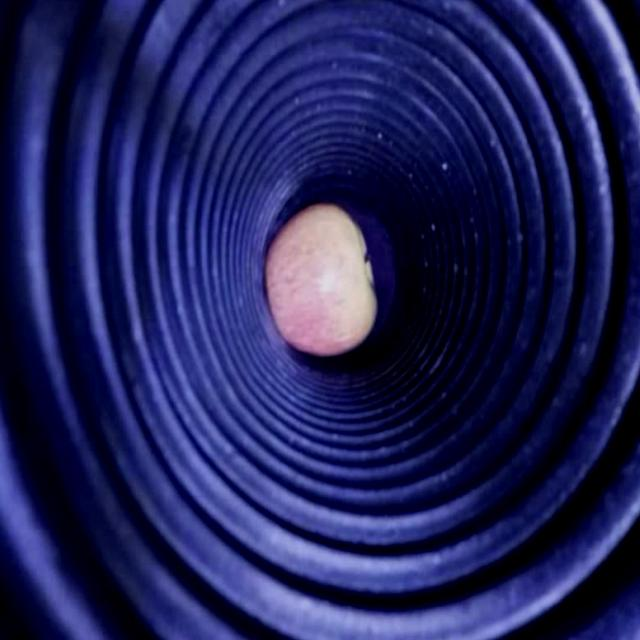obstacles: (263, 207, 378, 358)
